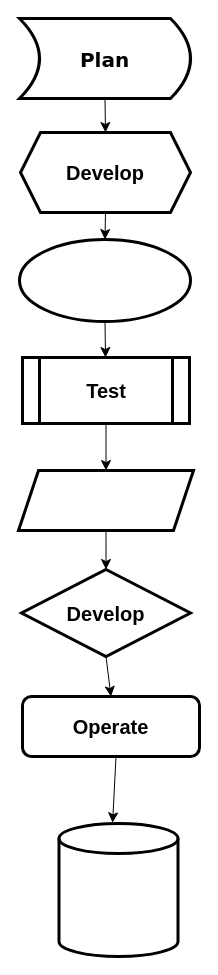
The diagram is 218 pixels wide and 975 high, and some of its shapes have lost their labels. Here are the shapes that lost their labels. From the top down, the centre of each, then its label:
At pixel 105 280: "Build".
At pixel 105 500: "Relese".
At pixel 118 890: "Monitor".
